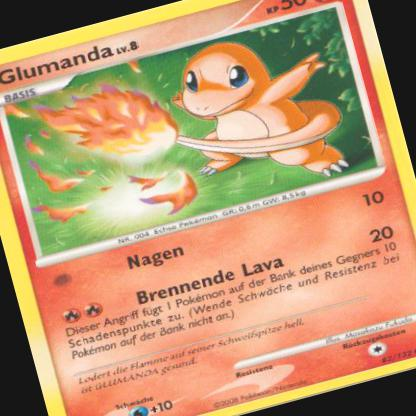Charmander: (109, 13, 360, 226)
